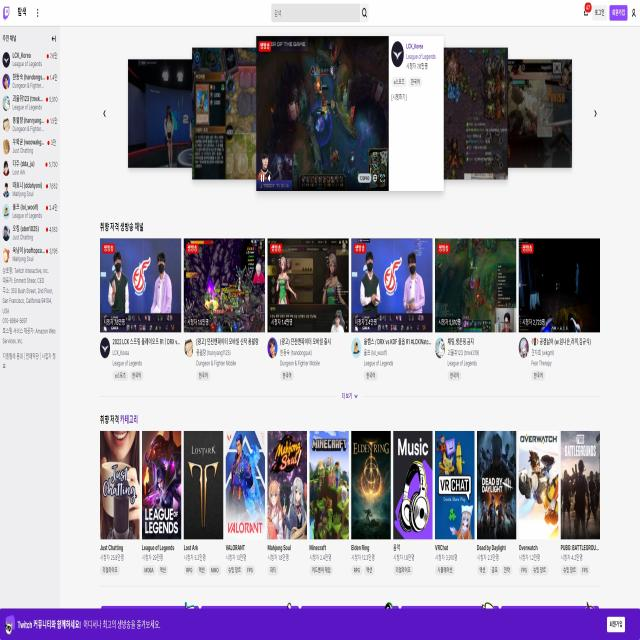menu-bar: (582, 0, 638, 22)
search: (270, 1, 370, 25)
side-panel: (1, 31, 58, 379)
tab-bar: (1, 2, 44, 25)
